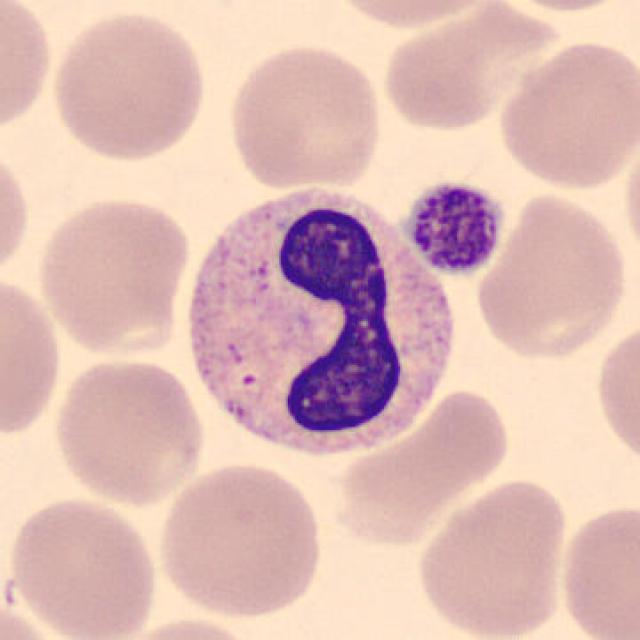neutrophil: (195, 192, 456, 465)
platelets: (411, 179, 500, 273)
rbc: (344, 401, 498, 537), (50, 206, 190, 354), (57, 22, 202, 164), (483, 200, 617, 349), (503, 48, 640, 190), (174, 472, 313, 608), (230, 57, 376, 184), (433, 496, 564, 632), (394, 15, 544, 129), (65, 369, 195, 496), (21, 503, 148, 628), (566, 513, 640, 640), (0, 279, 60, 427), (0, 0, 51, 130), (595, 320, 640, 456), (348, 0, 486, 29), (0, 164, 34, 263), (621, 151, 640, 247), (137, 624, 241, 640), (534, 1, 603, 18)
